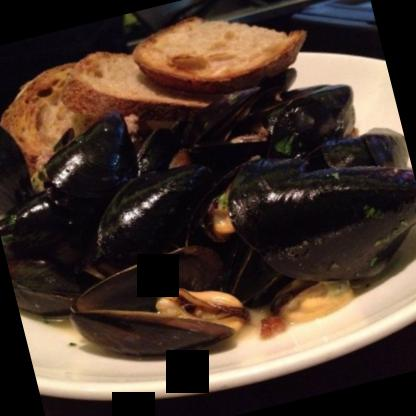bread: (131, 0, 302, 105), (55, 30, 207, 142), (0, 49, 111, 172)
